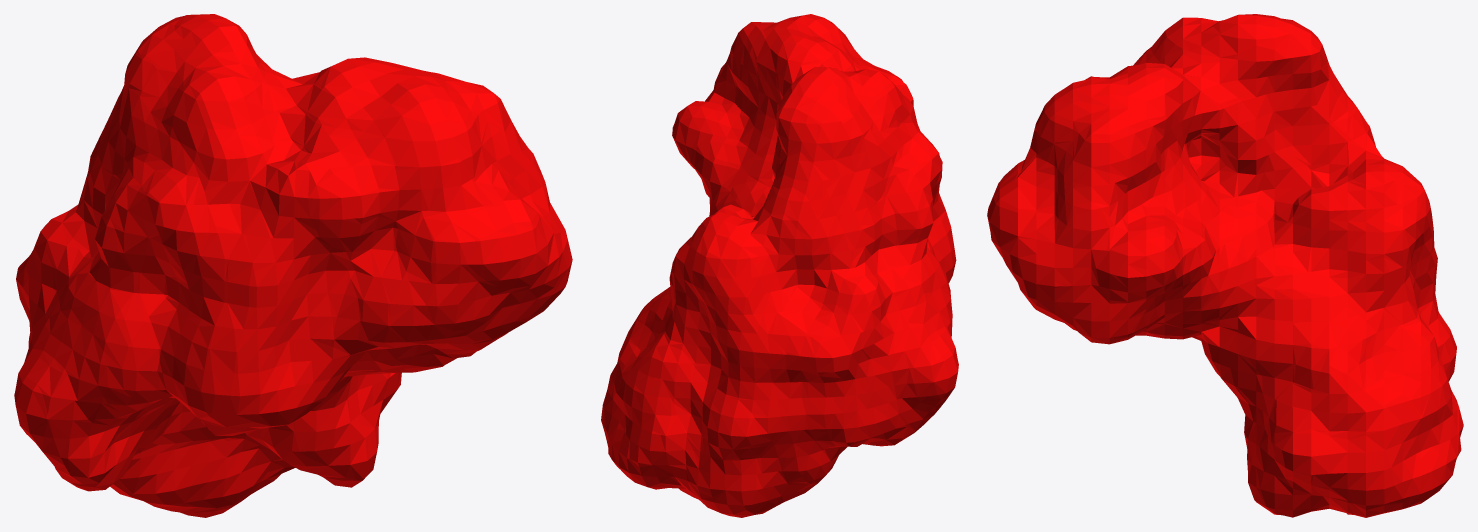
The model's file is glf_coarse.dae.
3 renders of one model, left to right at view 1: azimuth 30°, elevation 25°; view 2: azimuth 150°, elevation 25°; view 3: azimuth 270°, elevation 25°, orthographic. The views are drawn at different scales.
Visible parts, largest first — view 1: glf; view 2: glf; view 3: glf.
Part boxes in pixels (bbox=[...]): glf: bbox=[14, 14, 572, 517]; glf: bbox=[601, 14, 958, 517]; glf: bbox=[987, 14, 1463, 517].
Size of the model in its own units: 75.8 by 89.61 by 82.85.
